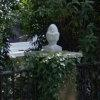Statue: (33, 13, 71, 71)
